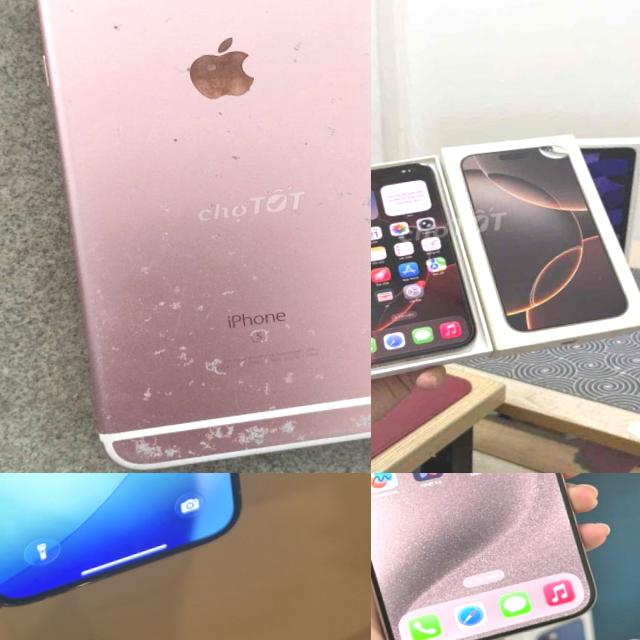gen_12_13: (0, 473, 267, 616)
gen_15: (371, 473, 609, 640)
gen_16: (371, 162, 481, 377)
gen_6: (37, 0, 371, 467)
scratch: (110, 215, 348, 404), (99, 377, 371, 472), (165, 28, 262, 110), (160, 116, 256, 178), (284, 13, 318, 78), (350, 173, 371, 251), (95, 10, 132, 50), (328, 111, 357, 149)
